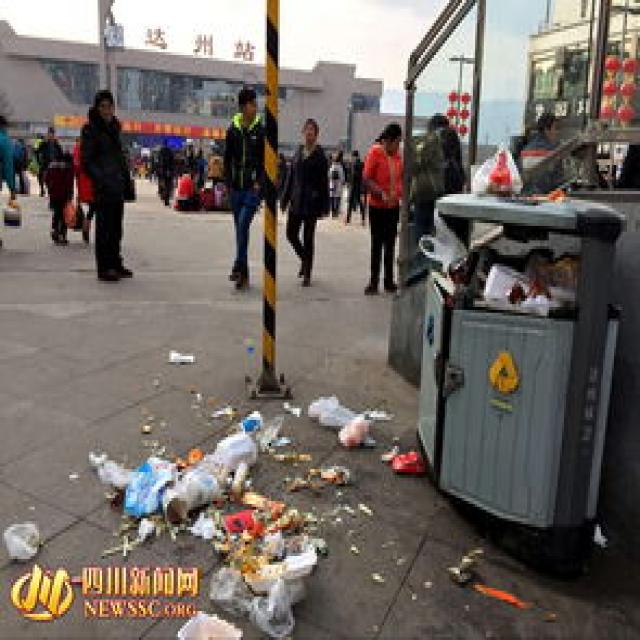garbage: (2, 348, 423, 637)
overflow: (412, 136, 627, 527)
